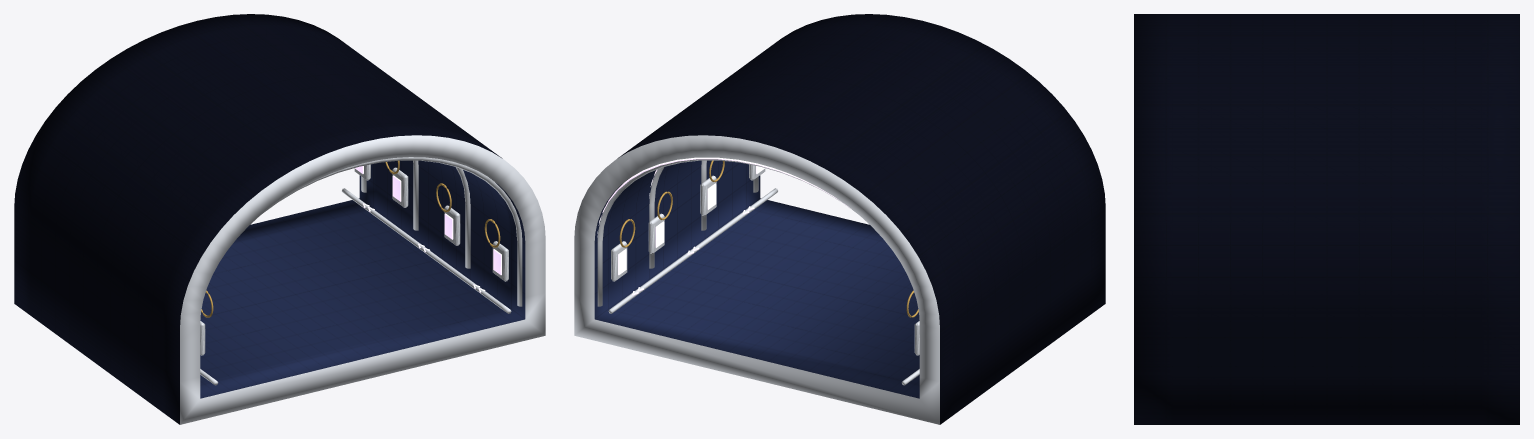
The model's file is straight_12m_lod1.glb.
3 renders of one model, left to right at view 1: azimuth 30°, elevation 25°; view 2: azimuth 150°, elevation 25°; view 3: azimuth 270°, elevation 25°, orthographic. The views are drawn at different scales.
Parts seen in each view (by area): view 1: TunnelGeometry.001; view 2: TunnelGeometry.001; view 3: TunnelGeometry.001.
Part boxes in pixels (bbox=[...]): TunnelGeometry.001: bbox=[14, 14, 545, 424]; TunnelGeometry.001: bbox=[574, 14, 1105, 424]; TunnelGeometry.001: bbox=[1134, 14, 1519, 424].
Size of the model in its own units: 15.3 by 9.52 by 12.
Materials: 5 (2 with a texture image).
